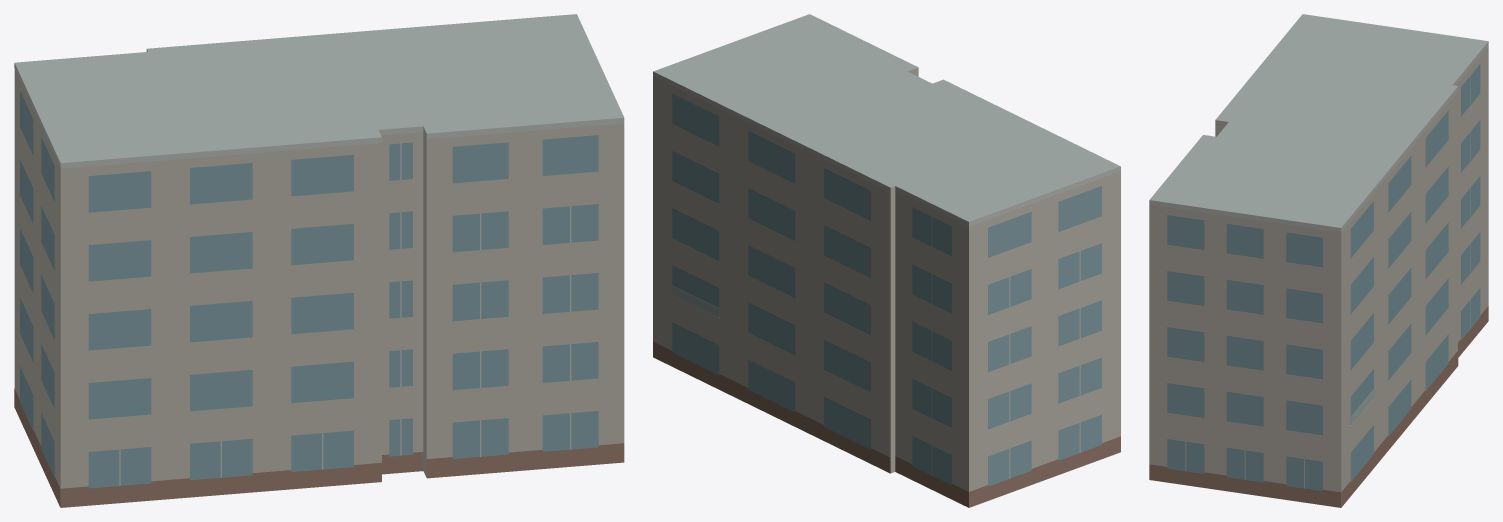
Rendered from survey-upis-32671759.glb.
3 renders of one model, left to right at view 1: azimuth 30°, elevation 25°; view 2: azimuth 150°, elevation 25°; view 3: azimuth 270°, elevation 25°, orthographic. The views are drawn at different scales.
Parts seen in each view (by area): view 1: survey-upis-32671759.tmp; view 2: survey-upis-32671759.tmp; view 3: survey-upis-32671759.tmp.
Boxes of the visible parts, box(x1,y1,x2,y2) form: survey-upis-32671759.tmp: box(14, 14, 624, 507); survey-upis-32671759.tmp: box(653, 14, 1120, 507); survey-upis-32671759.tmp: box(1149, 14, 1488, 507).
Size of the model in its own units: 24.44 by 14.9 by 16.38.
